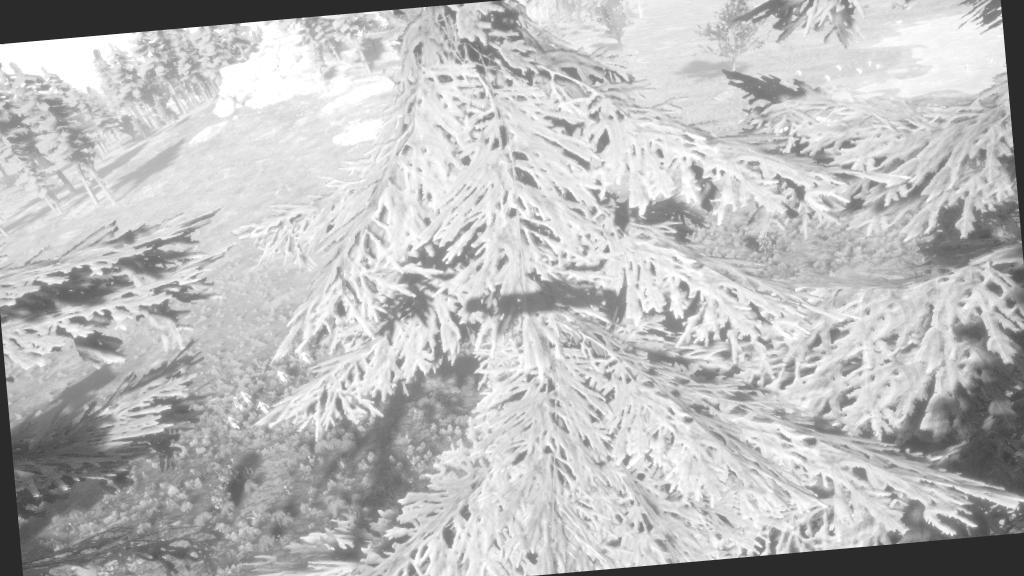human: (270, 368, 293, 388), (224, 412, 244, 434), (296, 350, 316, 370), (254, 398, 274, 418), (229, 394, 248, 414), (236, 388, 254, 407)
